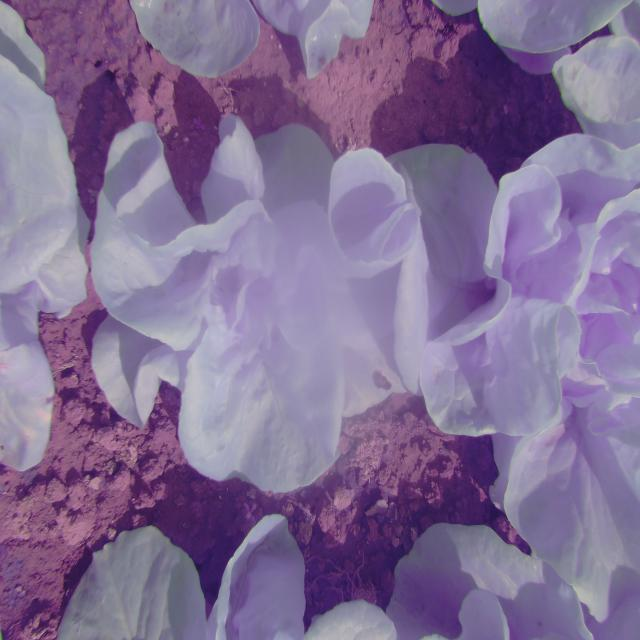vege: (91, 105, 490, 483)
